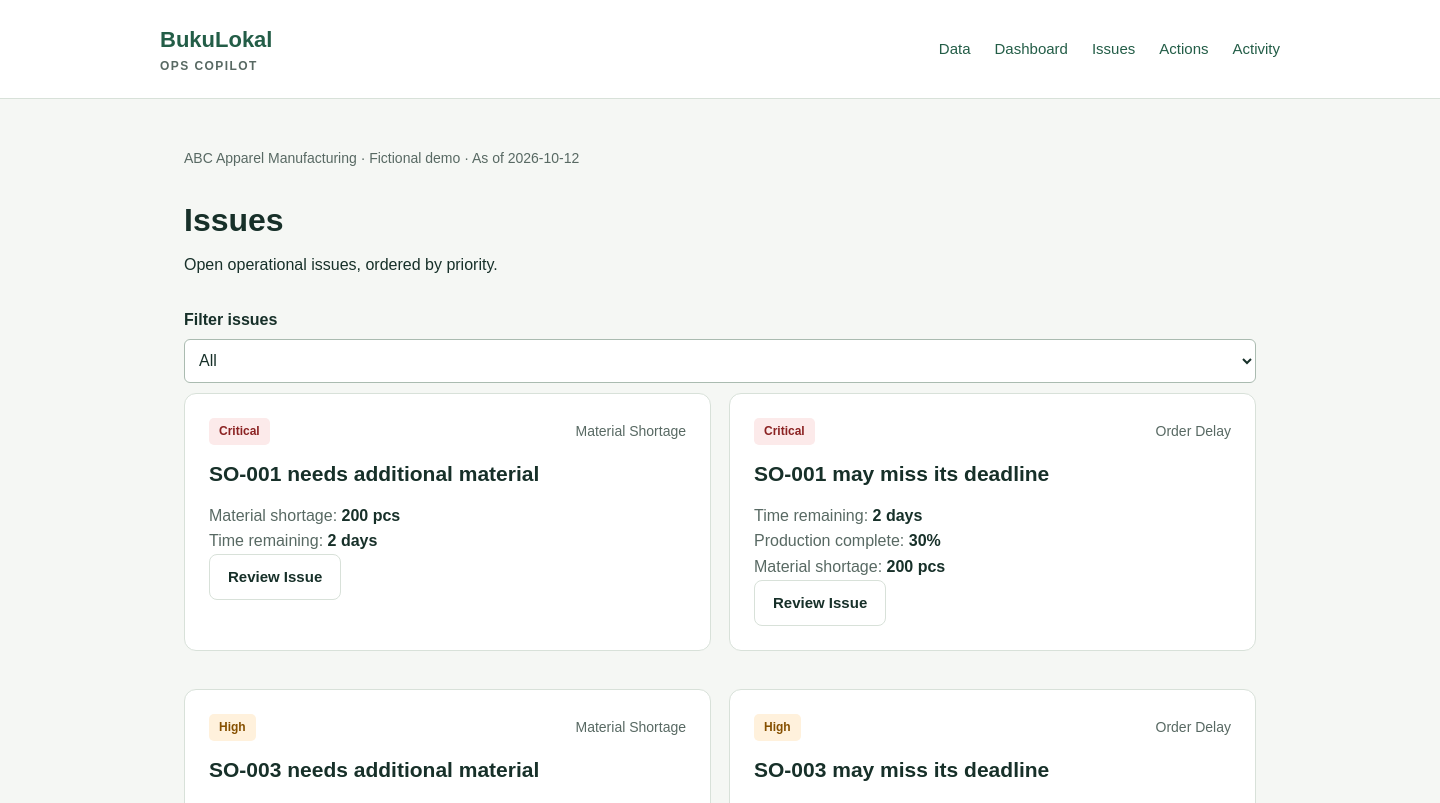
Test: product UI and AI states › filters open issues deterministically and shows genuine empty states
Select "Order Delay" in the dropdown labelled "Filter issues" at (720, 361), box [184,339,1256,383]
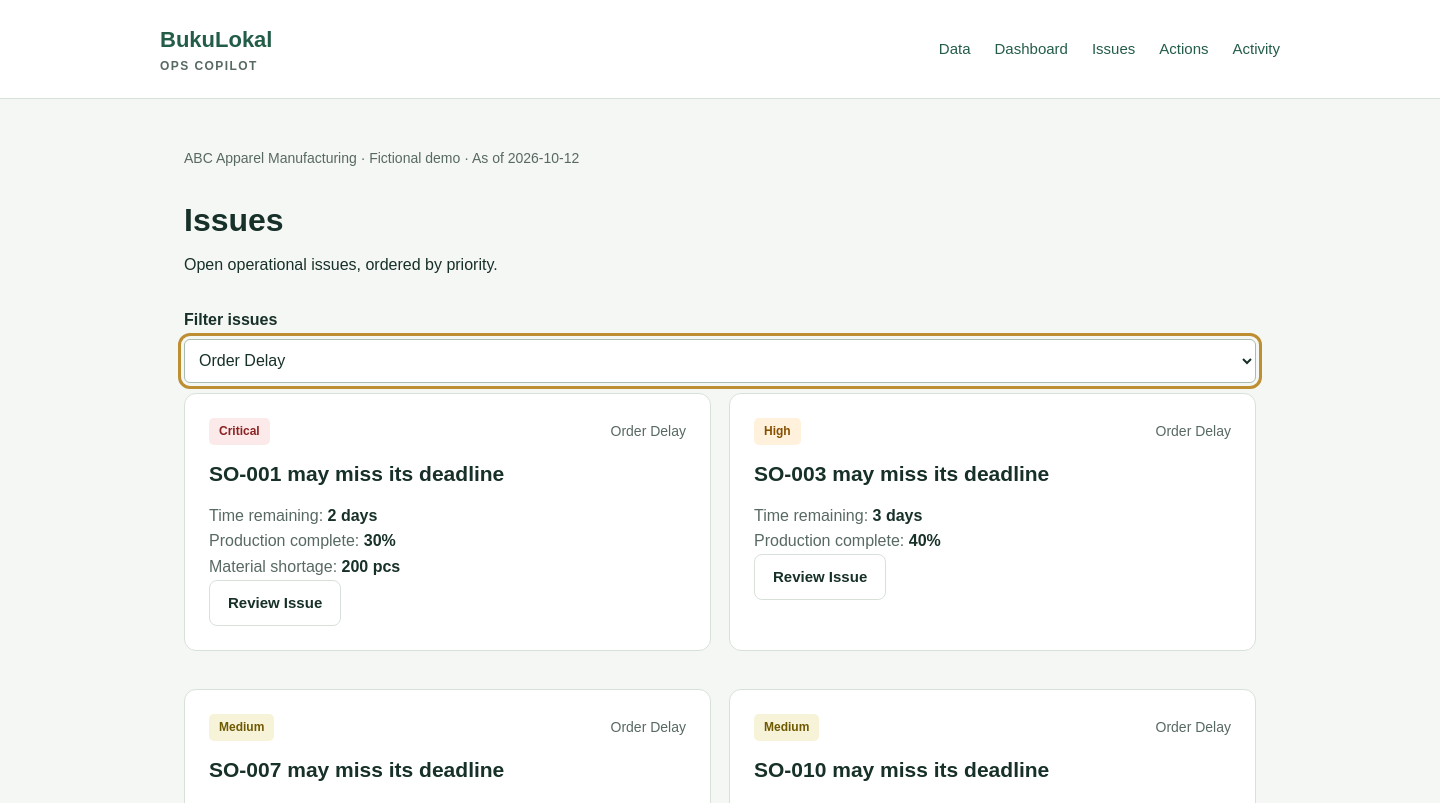
Expected: the number of links "Review Issue" is 5
